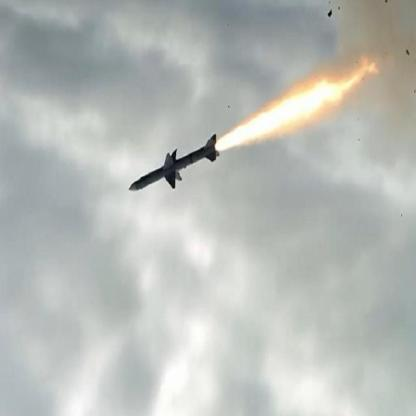MIL_TBM: (128, 130, 223, 198)
